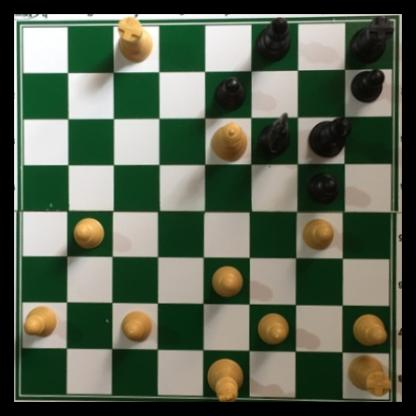black-bishop: (251, 15, 291, 64)
black-king: (306, 116, 351, 160)
black-knight: (255, 110, 287, 155)
black-pawn: (350, 67, 386, 103), (212, 76, 246, 112), (306, 172, 339, 204)
black-rook: (346, 15, 391, 67)
white-king: (201, 354, 243, 402)
white-pawn: (21, 301, 60, 338), (350, 313, 387, 349), (301, 215, 336, 252), (119, 308, 154, 344), (256, 311, 291, 347), (71, 216, 106, 251), (211, 264, 244, 299)
white-queen: (209, 121, 248, 163)
white-rook: (344, 351, 393, 397), (112, 15, 152, 64)
